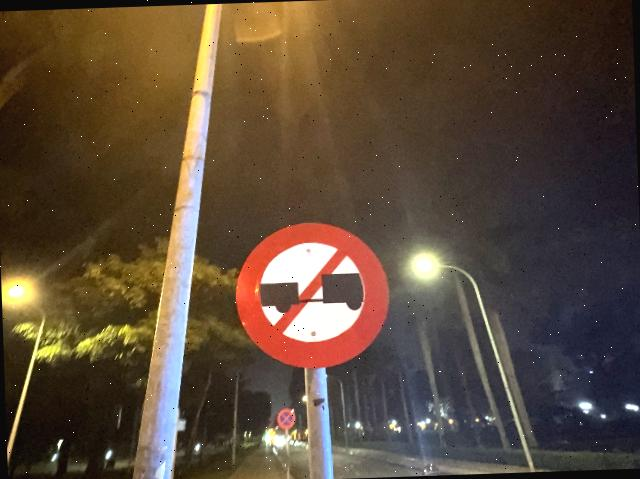cam-xe-somi-romooc: (233, 221, 390, 372)
